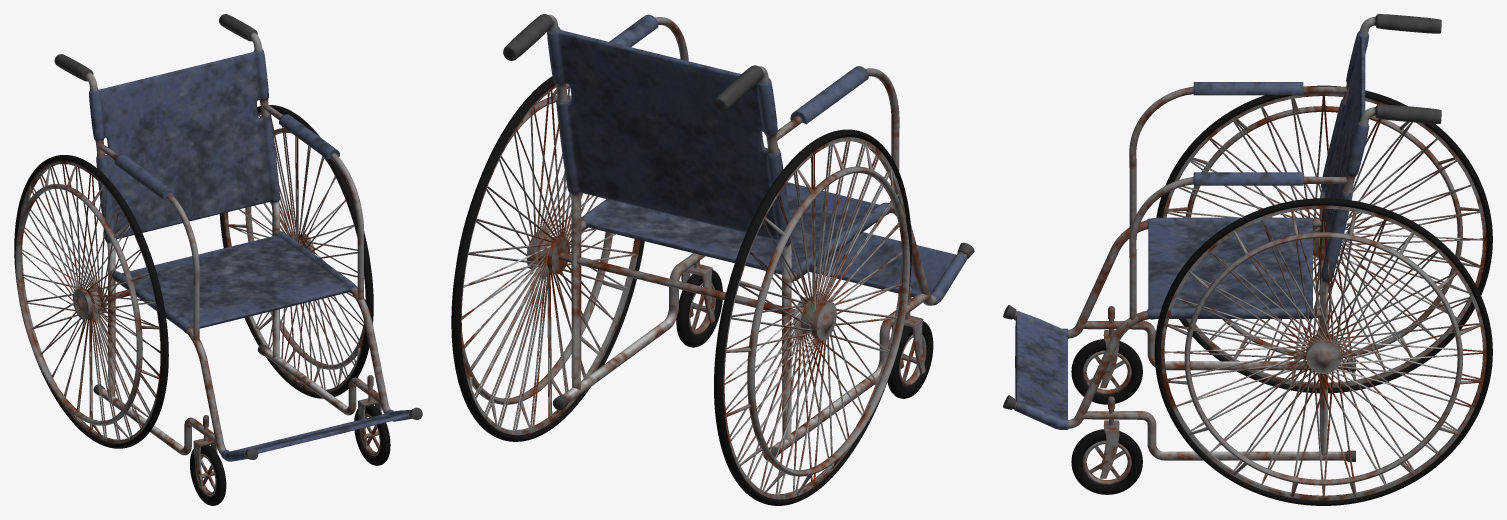
The model's file is old_rusty_wheelchair.glb.
3 renders of one model, left to right at view 1: azimuth 30°, elevation 25°; view 2: azimuth 150°, elevation 25°; view 3: azimuth 270°, elevation 25°, orthographic. The views are drawn at different scales.
Parts seen in each view (by area): view 1: WheelChair; view 2: WheelChair; view 3: WheelChair.
Part boxes in pixels (<box>): WheelChair: <box>14,14,422,505</box>; WheelChair: <box>451,14,974,505</box>; WheelChair: <box>1003,14,1492,505</box>.
Bounding box in the file's own units: 1.81 × 2.54 × 2.89.
Materials: 1 (1 with a texture image).
